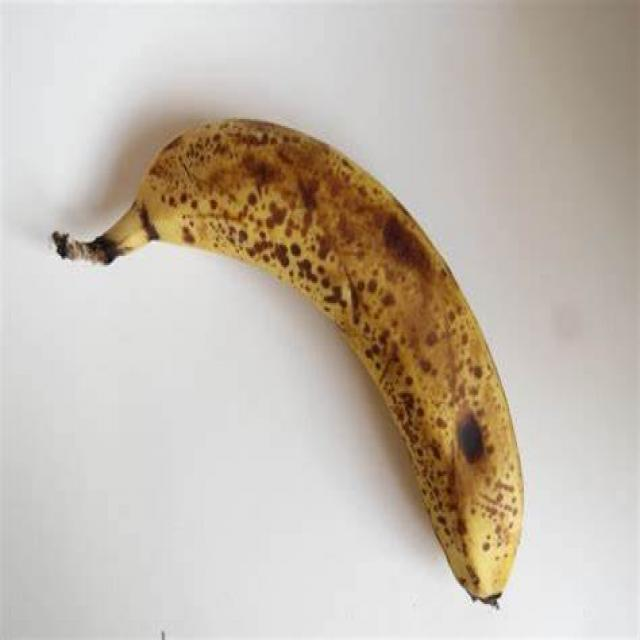Banana: (55, 119, 527, 612)
